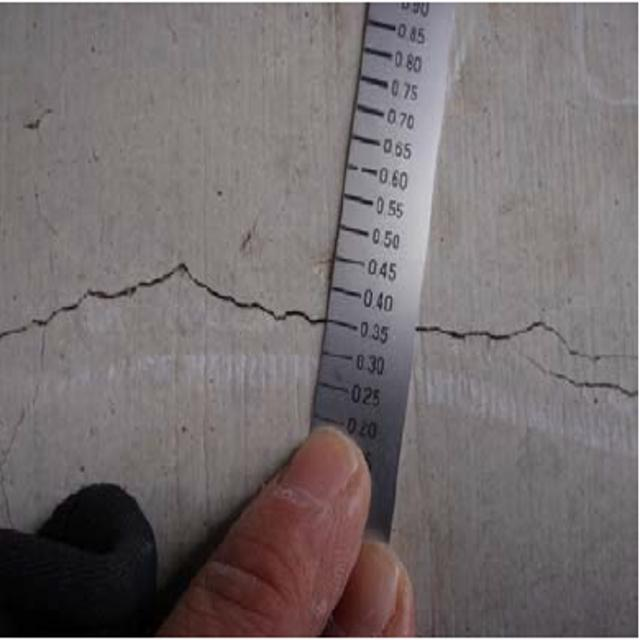crack: (3, 243, 330, 356), (423, 300, 638, 400)
